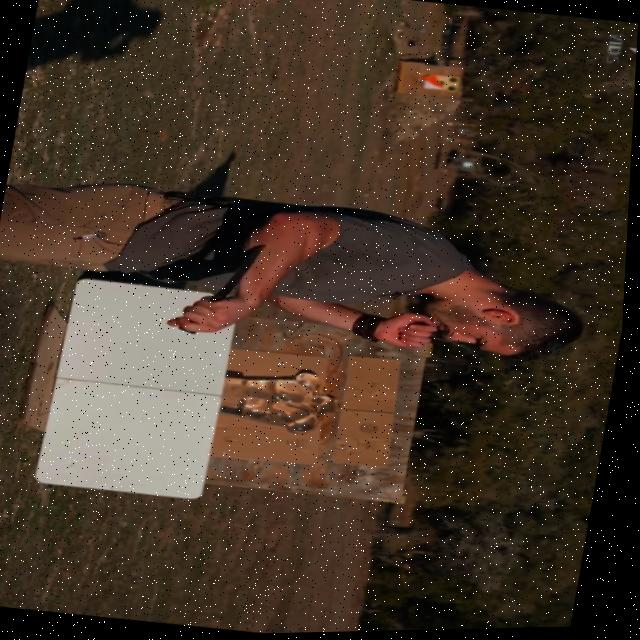knife: (206, 239, 271, 306)
